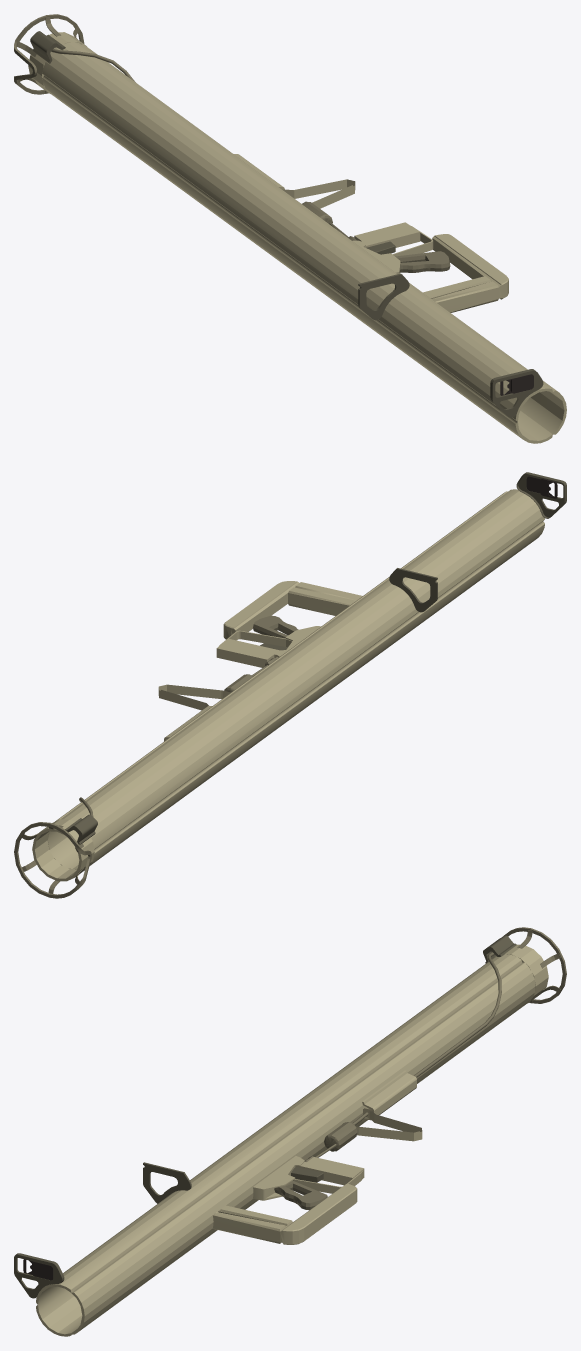
File: bazuka.FBX
3 renders of one model, top to bottom at view 1: azimuth 30°, elevation 25°; view 2: azimuth 150°, elevation 25°; view 3: azimuth 330°, elevation 25°, orthographic. The views are drawn at different scales.
Visible parts, largest first — view 1: BZ_LNCHR; view 2: BZ_LNCHR; view 3: BZ_LNCHR.
Part boxes in pixels (x1=…): BZ_LNCHR: x1=14, y1=14, x2=566, y2=443; BZ_LNCHR: x1=14, y1=472, x2=566, y2=898; BZ_LNCHR: x1=14, y1=927, x2=566, y2=1336.
Bounding box in the file's own units: 89605 × 46393 × 482314.
